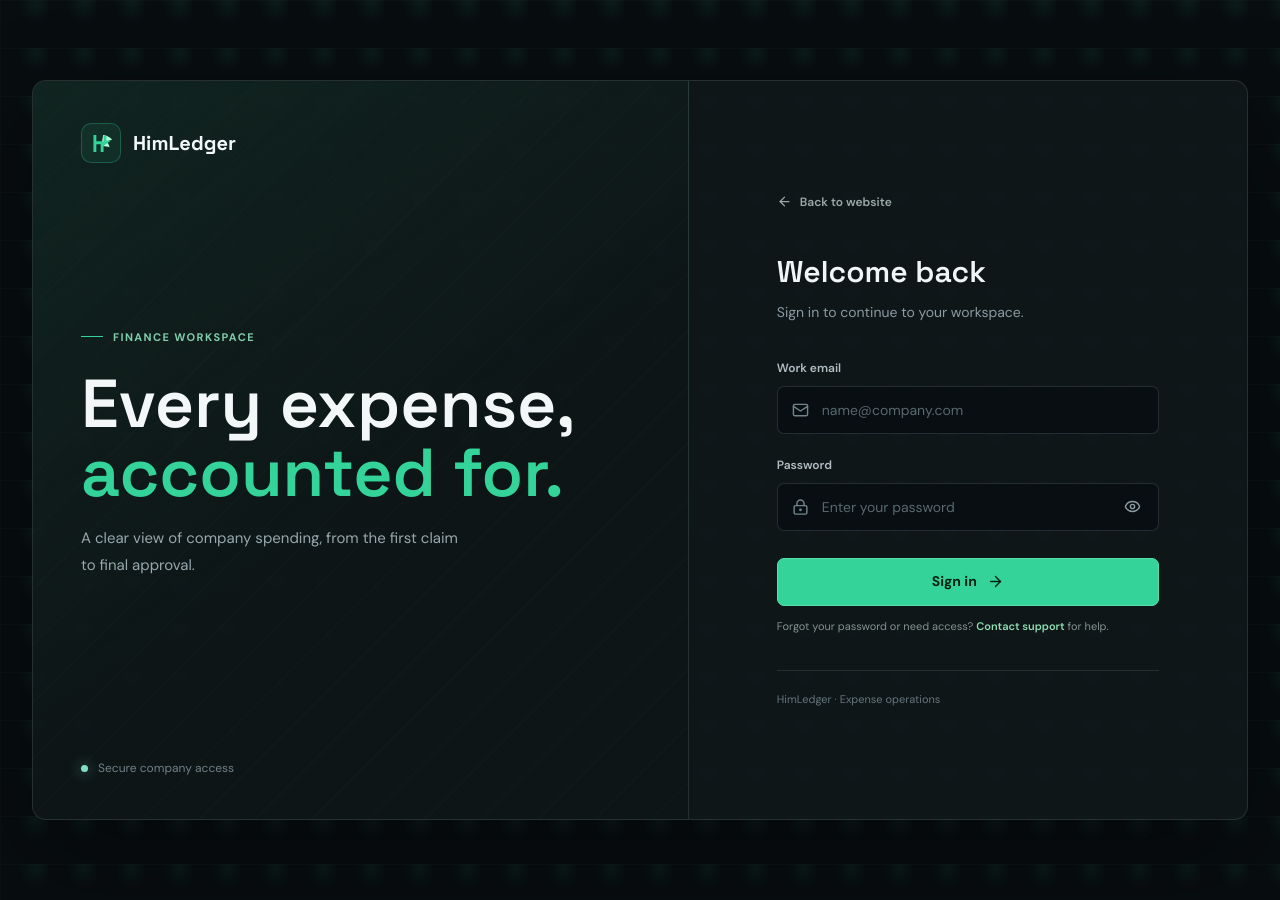
Login › shows a generic sign-in failure without identifying which credential was incorrect
The image size is (1280, 900).
Step 1. Type "ari@example.com" into the field labelled "Work email" → point(968, 410), box [777,386,1159,434]
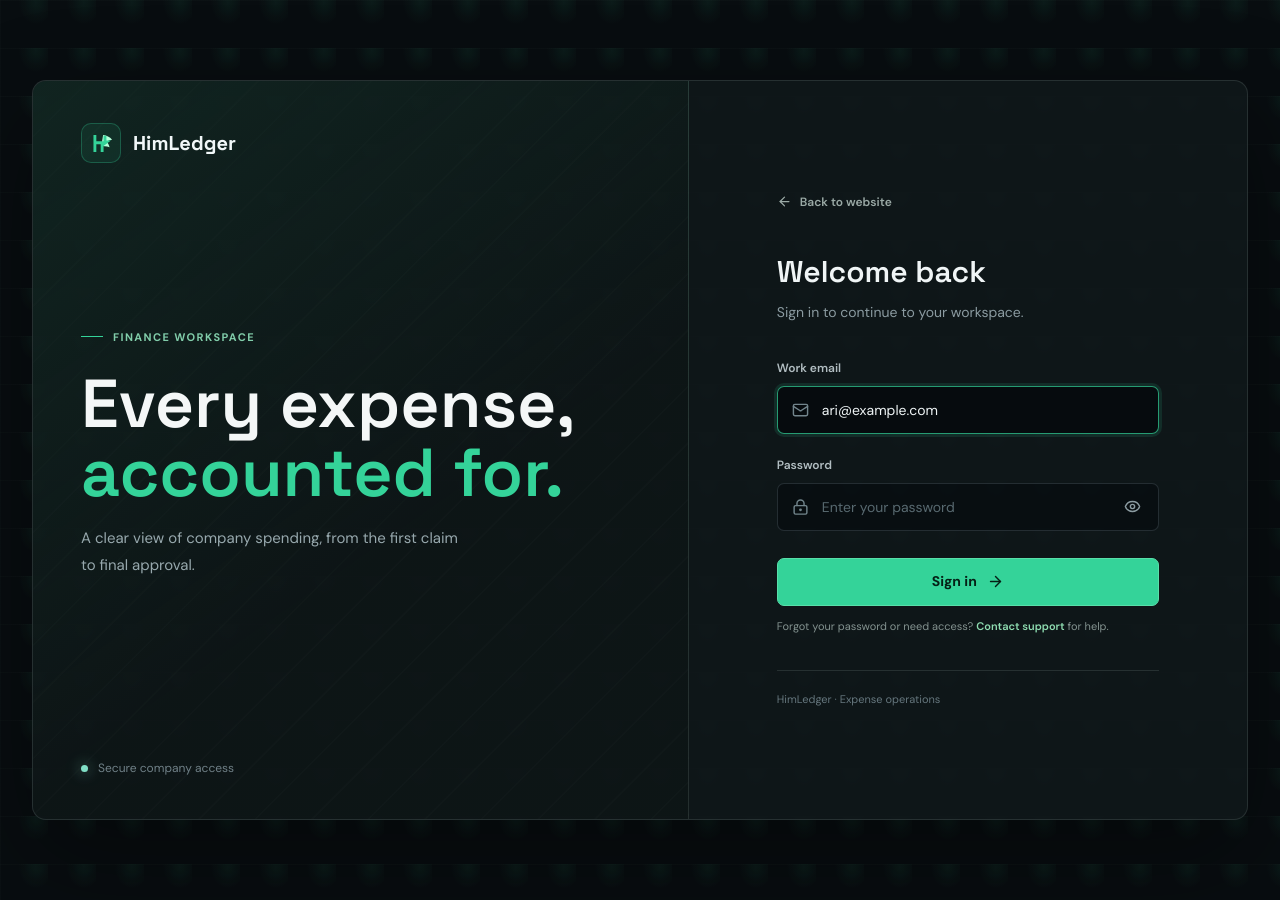
Step 2. Type "incorrect" into the password field labelled "Password" → point(968, 507), box [777,483,1159,531]
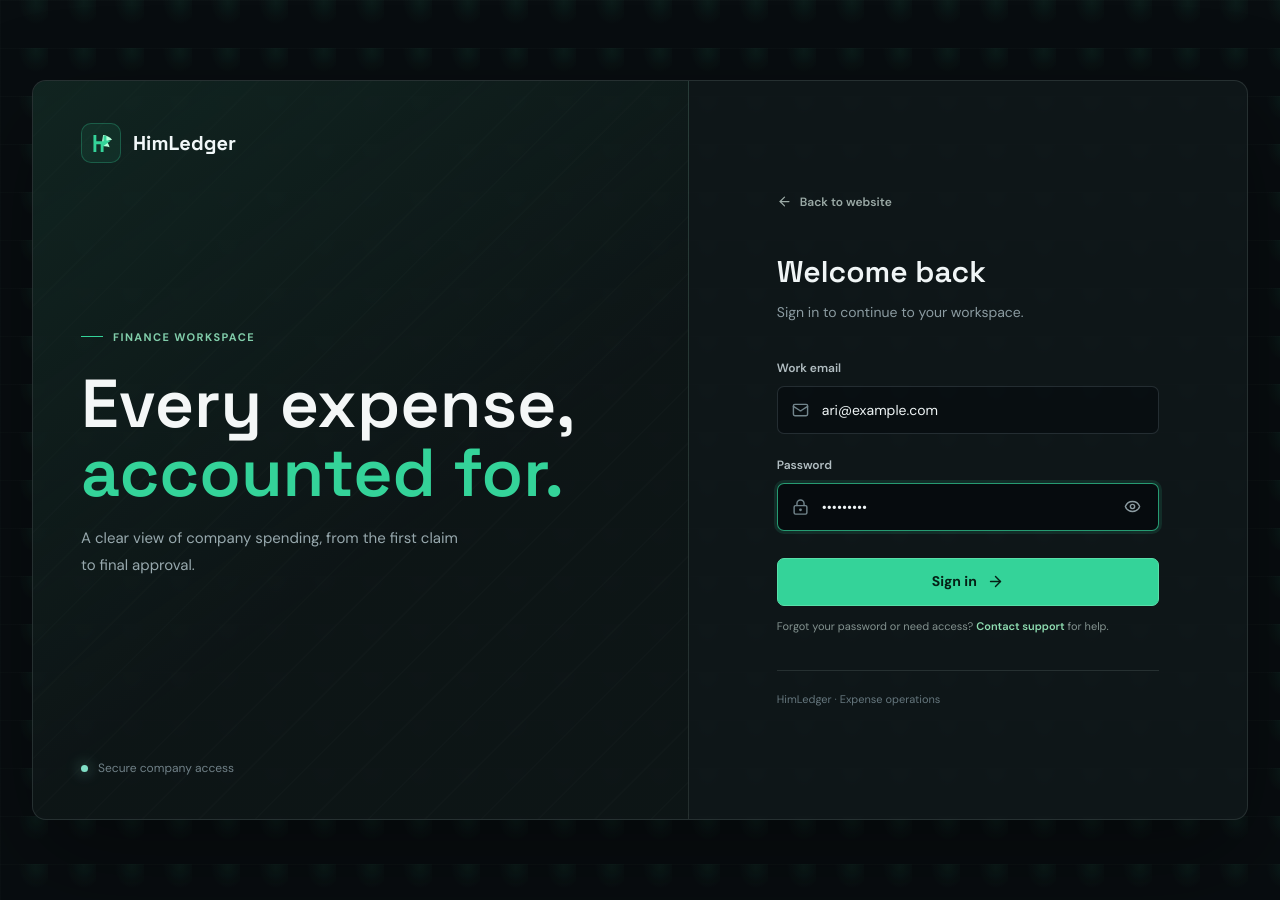
Step 3. Click the button "Sign in" → point(968, 582), box [777,558,1159,606]
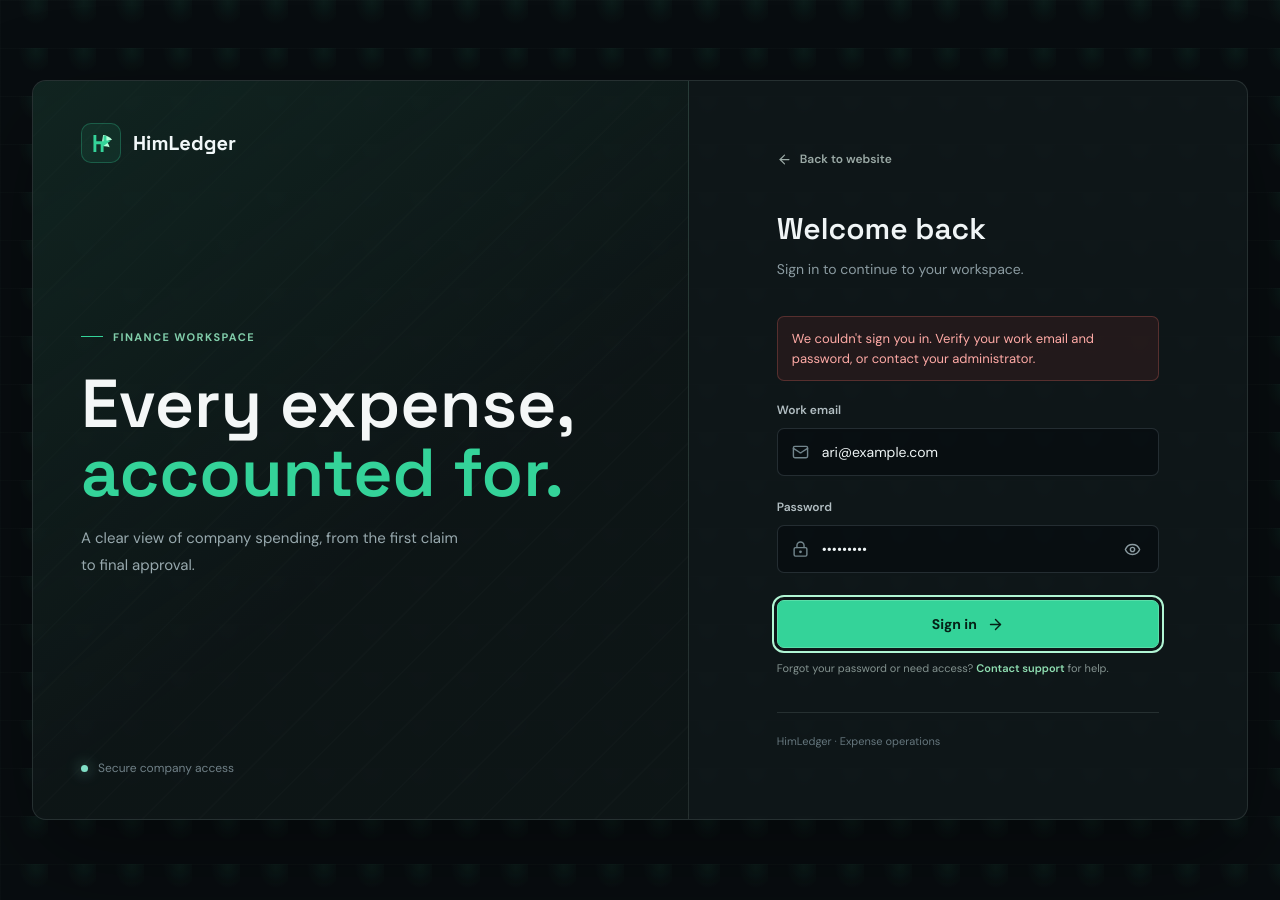
Check: the message shows "Verify your work email and password", box [792,330,1094,367]
